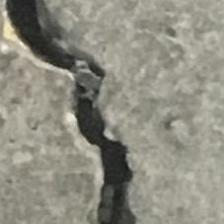Crack: (0, 0, 173, 224)
